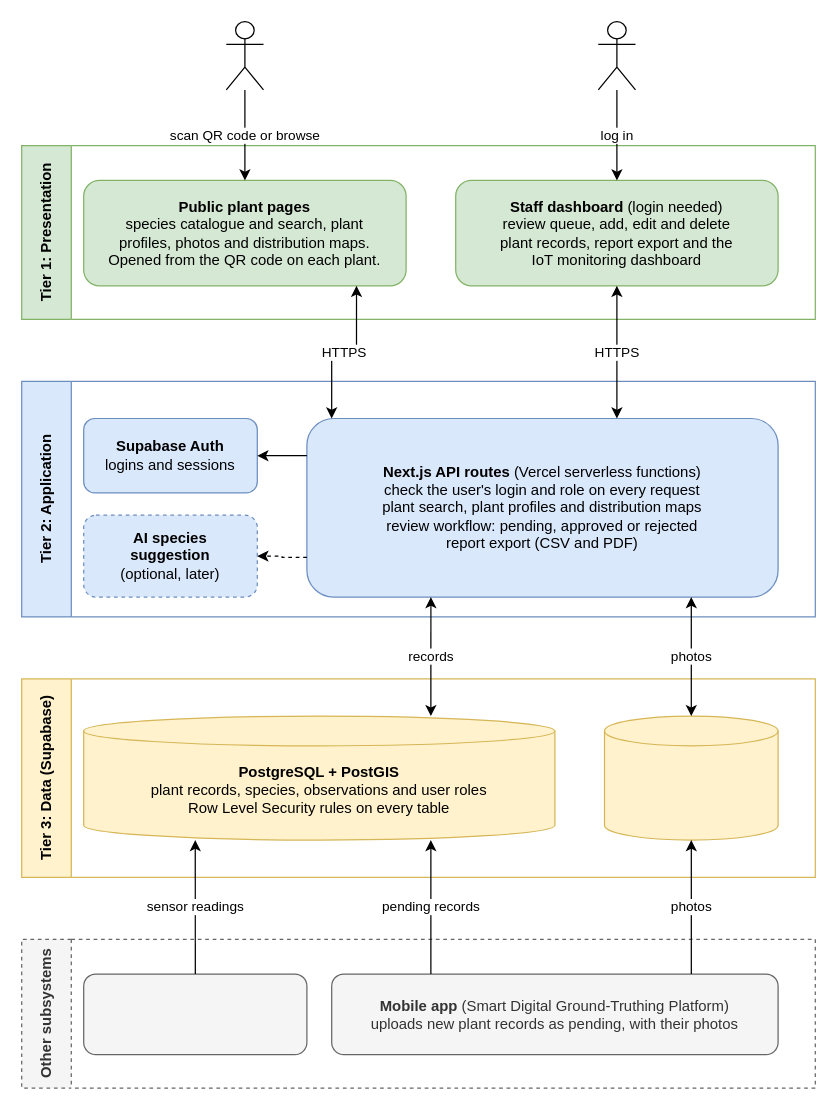
The diagram is 837 pixels wide and 1110 high, and some of its shapes have lost their labels. The centre of each missing label's shape, as x and y in pixels:
Conservation officers and administrators: the point at 616,55
IoT monitoring system saves sensor readings and alerts: the point at 194,1014
Park guides, visitors and researchers: the point at 244,55
Supabase Storage plant photos: the point at 690,777
